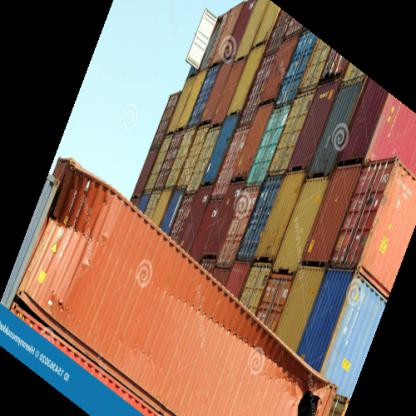Damage: (48, 158, 99, 240), (278, 372, 334, 412), (38, 281, 81, 317)
